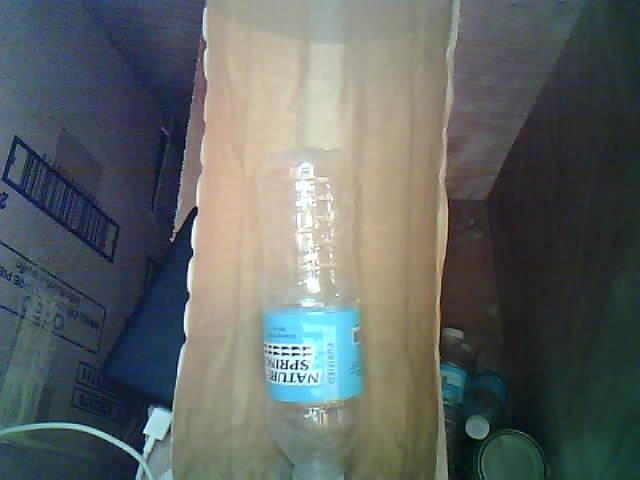small_bottle: (239, 139, 380, 480)
